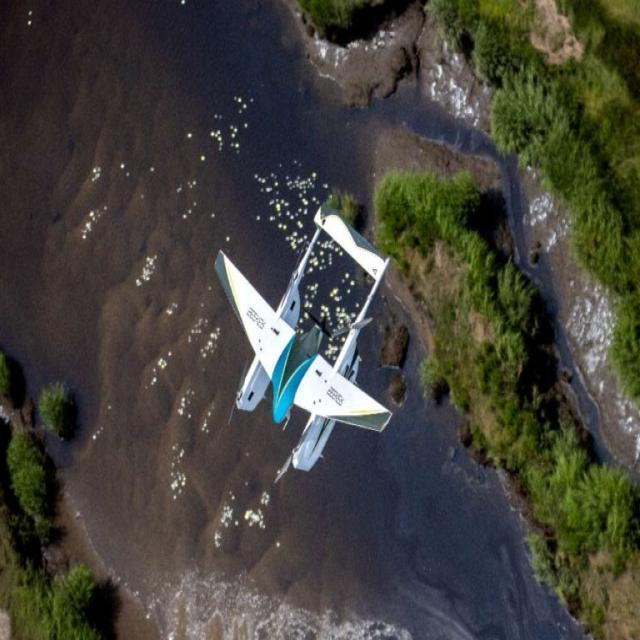iha: (206, 200, 411, 490)
